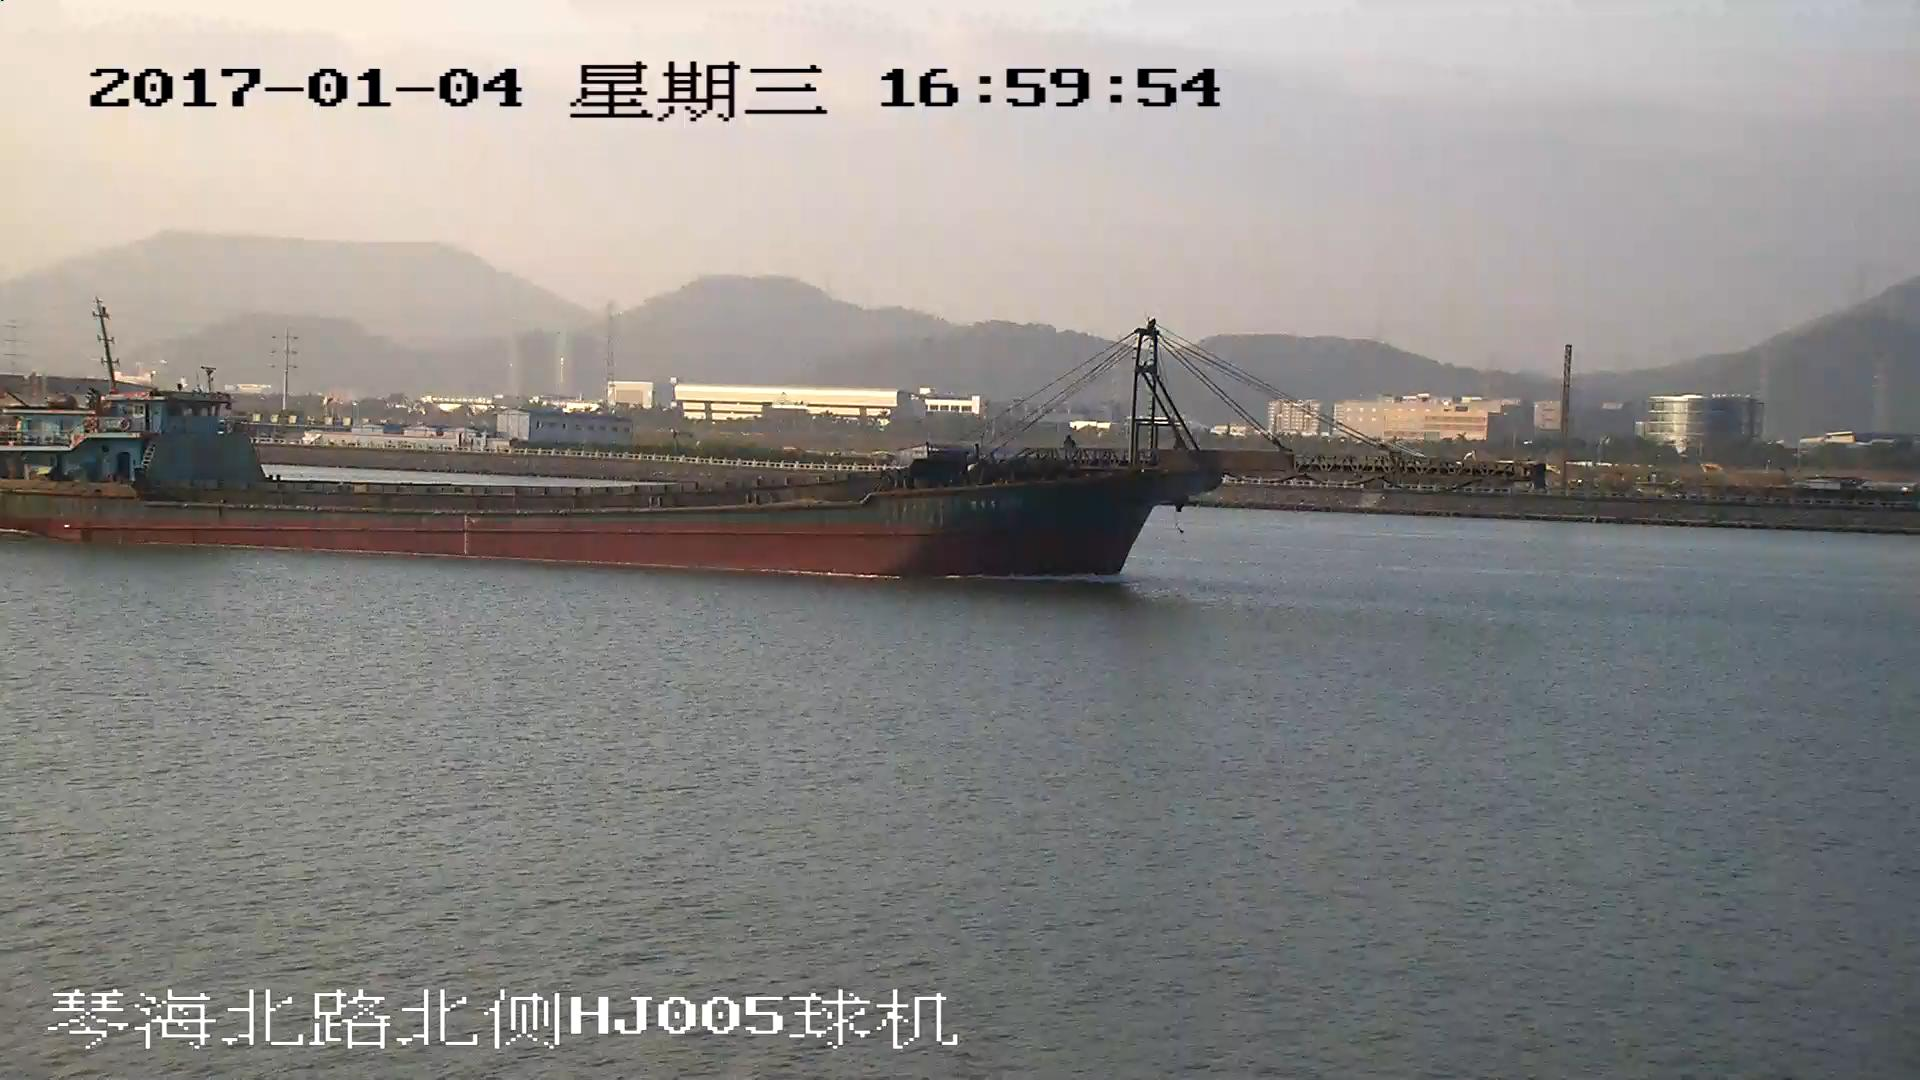bulk cargo carrier: (1, 324, 1542, 570)
